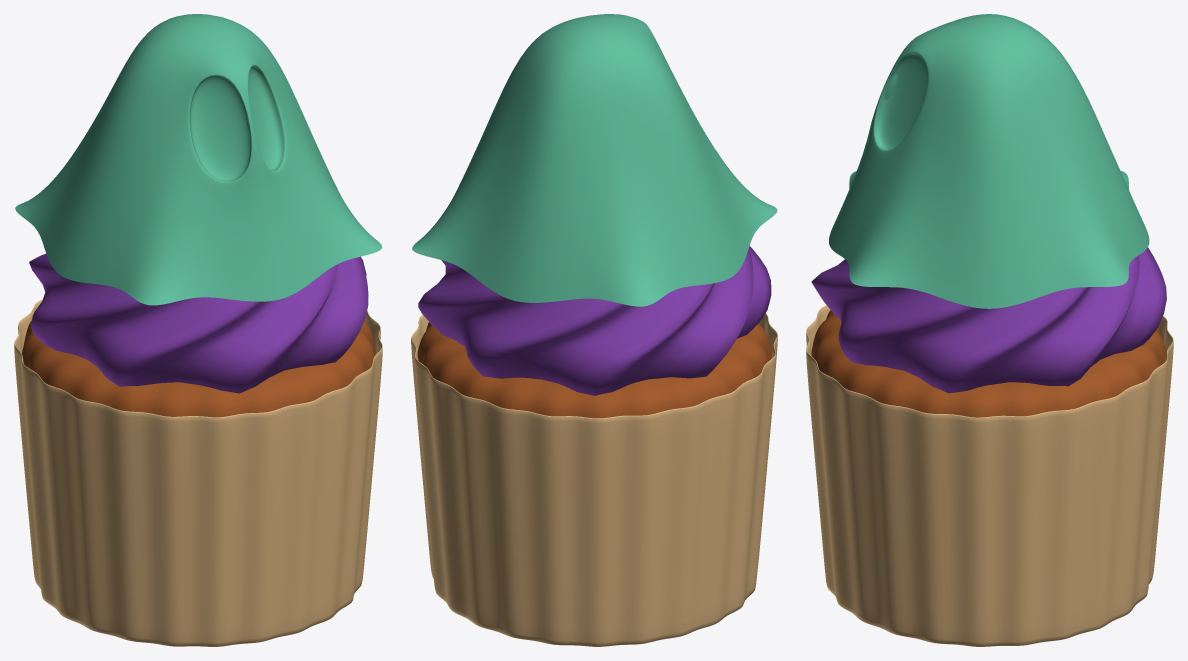
The model's file is cupcake_ghost.fbx.
3 views of the same model, side by side, from view 1: azimuth 30°, elevation 25°; view 2: azimuth 150°, elevation 25°; view 3: azimuth 270°, elevation 25° (orthographic).
Visible parts, largest first — view 1: Circle.001; view 2: Circle.001; view 3: Circle.001.
Boxes of the visible parts, x1=… form: Circle.001: x1=14, y1=14, x2=382, y2=646; Circle.001: x1=411, y1=14, x2=777, y2=646; Circle.001: x1=806, y1=14, x2=1173, y2=646.
Size of the model in its own units: 225 by 375 by 224.
